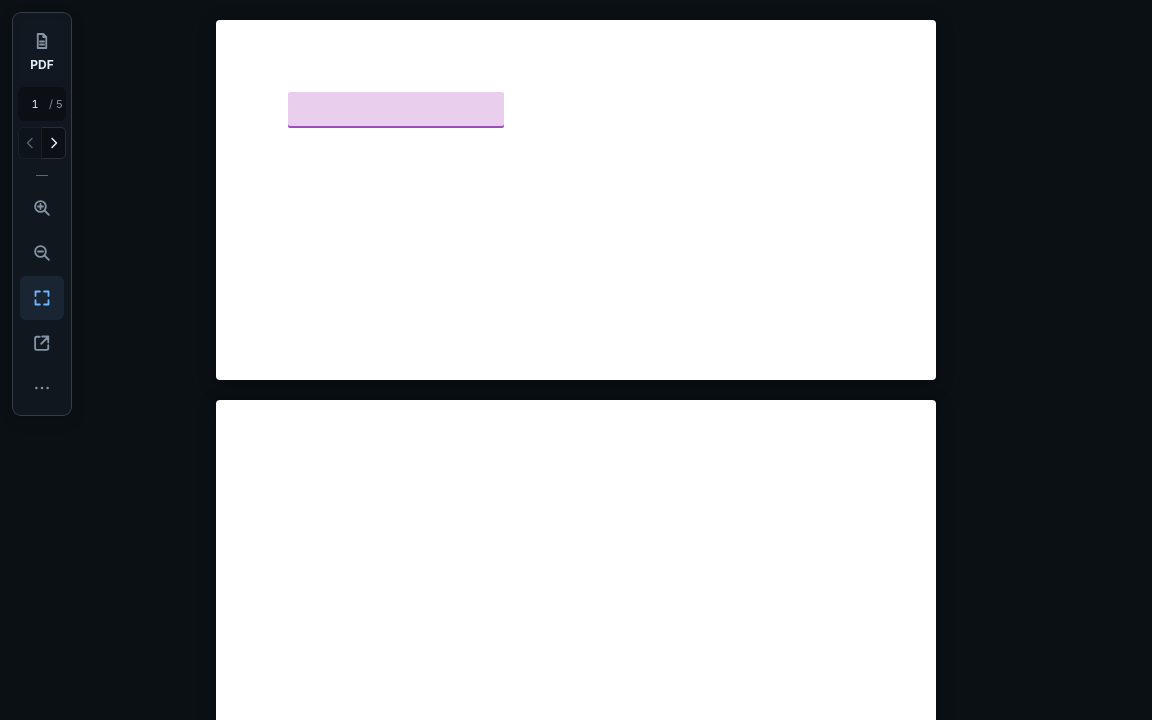
it: PdfReader annotation interactions › shows multiple pages at once and keeps navigation aligned to page groups
Click the button named "更多 PDF 工具": (42, 388) [20,366,64,410]
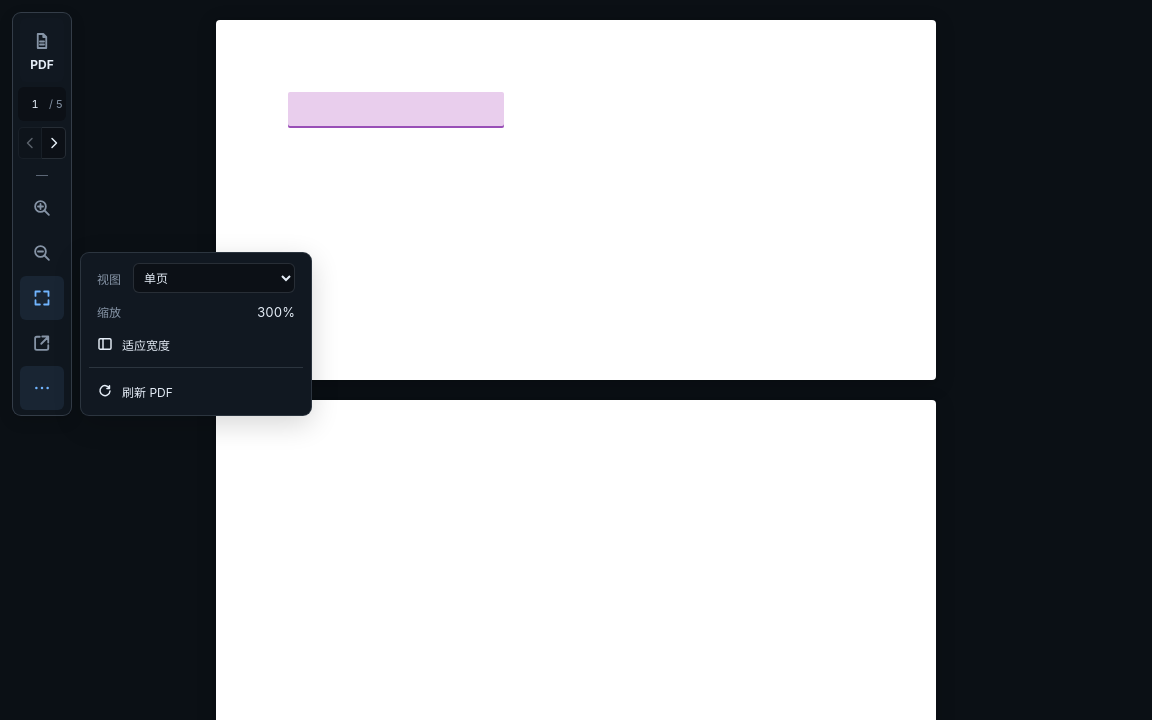
Select "双页并排" in the dropdown named "阅读布局": (214, 278) [133,263,295,293]
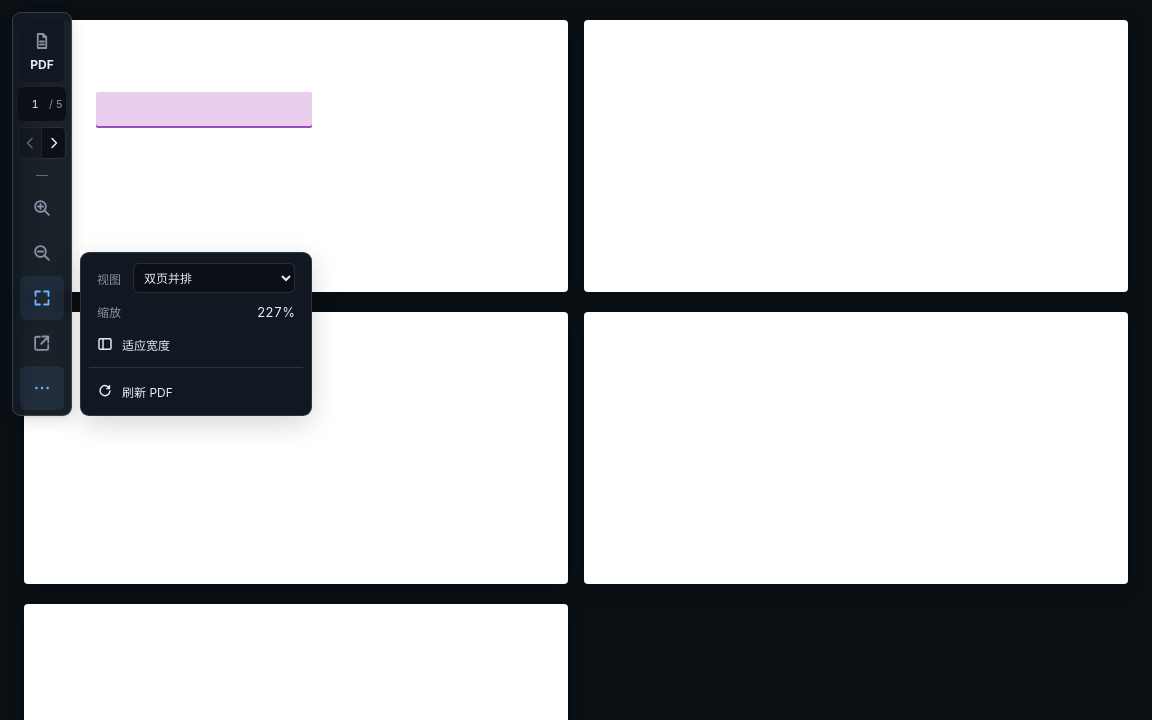
Expected: the element with class "lit-pdf-pages" has class "pages-2"
Click the button named "下一页": (54, 143) [42,127,66,159]
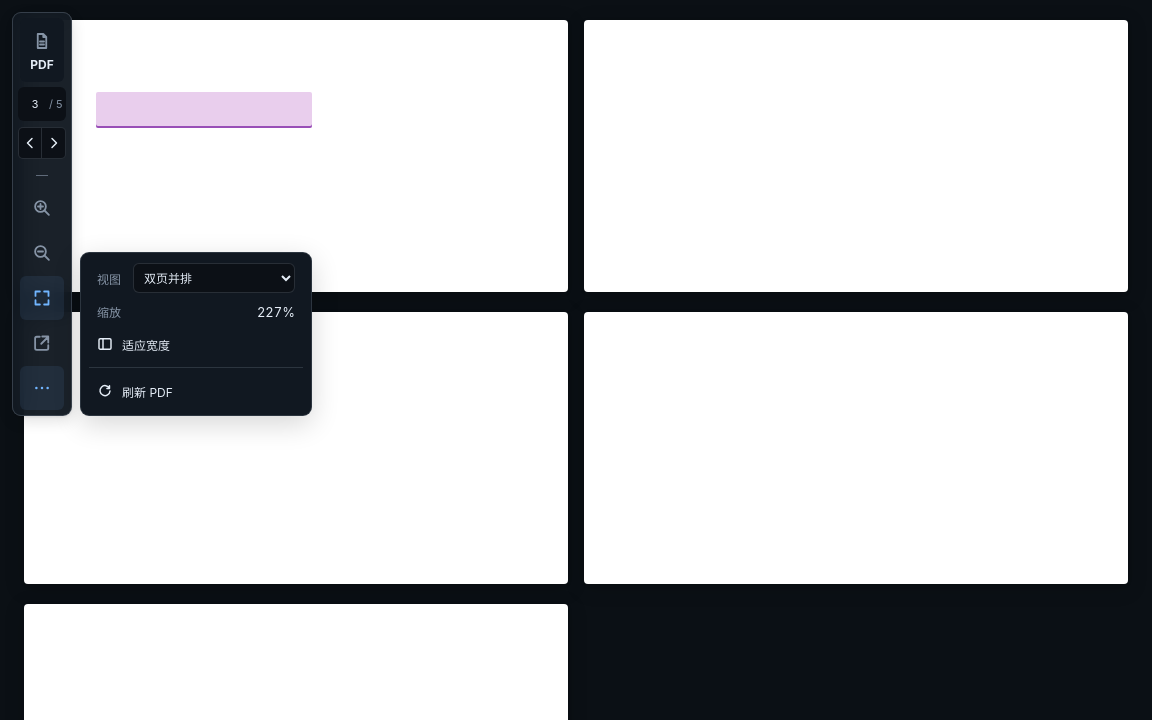
Expected: the number field labelled "/ 5" holds "3", [21,88,49,120]
Select "四页网格" in the dropdown named "阅读布局": (214, 278) [133,263,295,293]
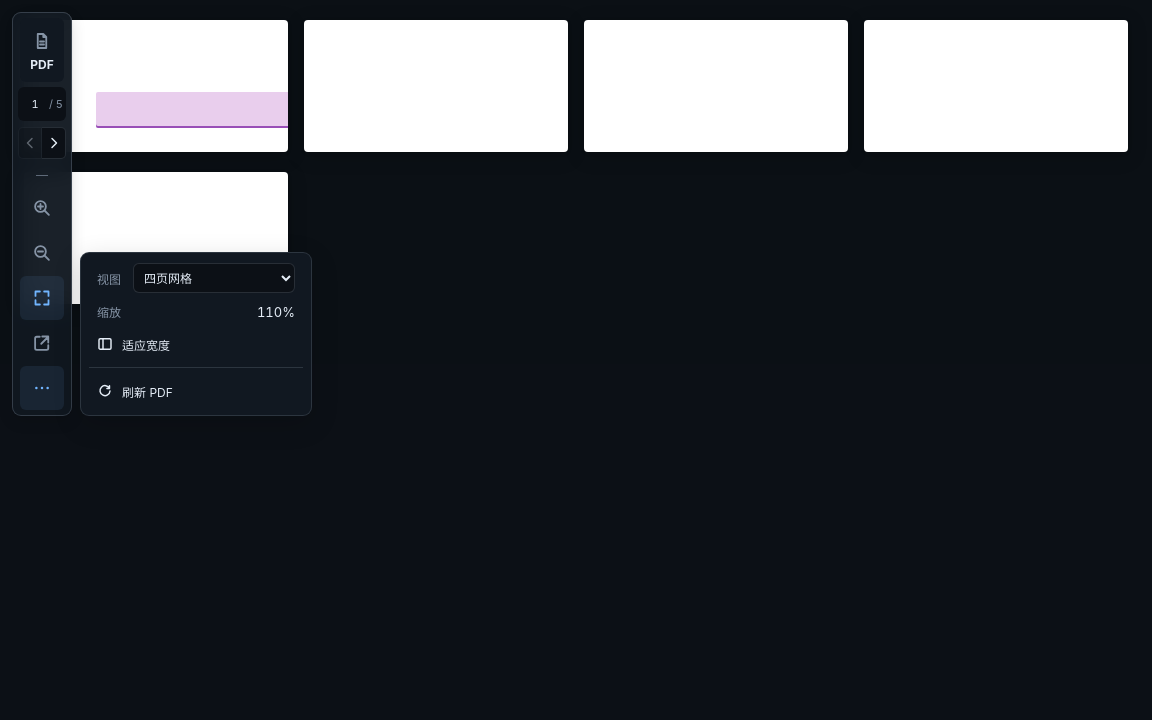
Expected: the number field labelled "/ 5" holds "1", [21,88,49,120]
Click the button named "下一页": (54, 143) [42,127,66,159]
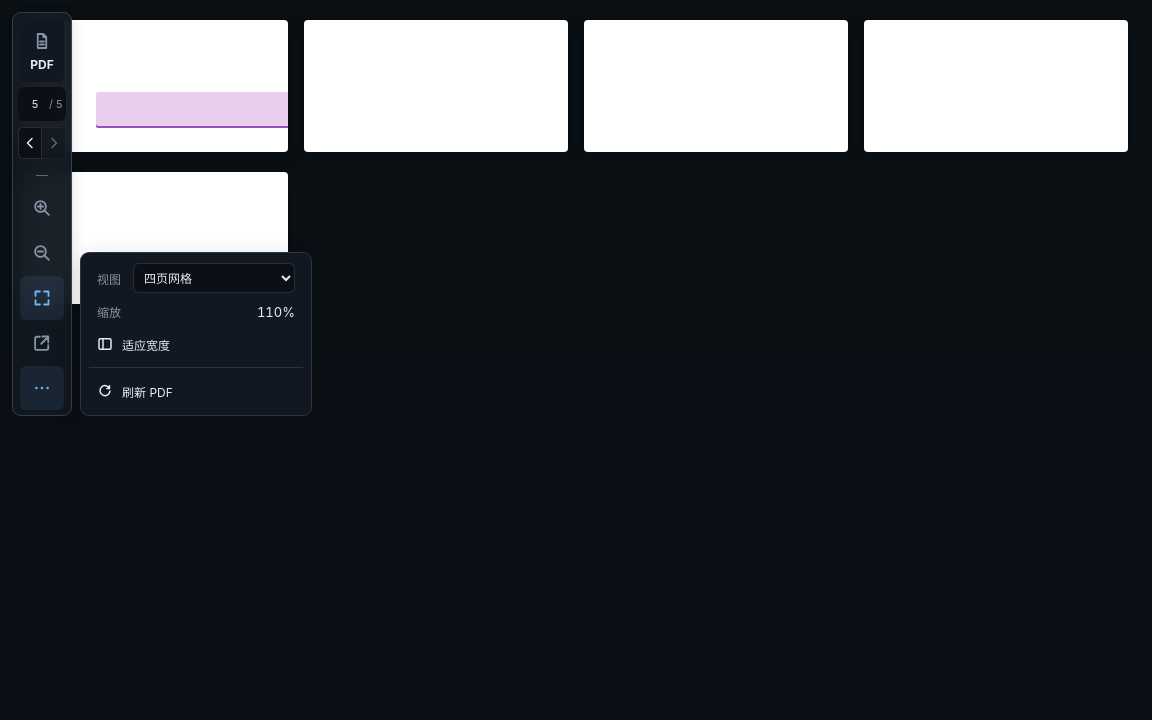
Expected: the number field labelled "/ 5" holds "5", [21,88,49,120]
Expected: the button named "下一页" is disabled, [42,127,66,159]
Click the button named "上一页": (30, 143) [18,127,42,159]
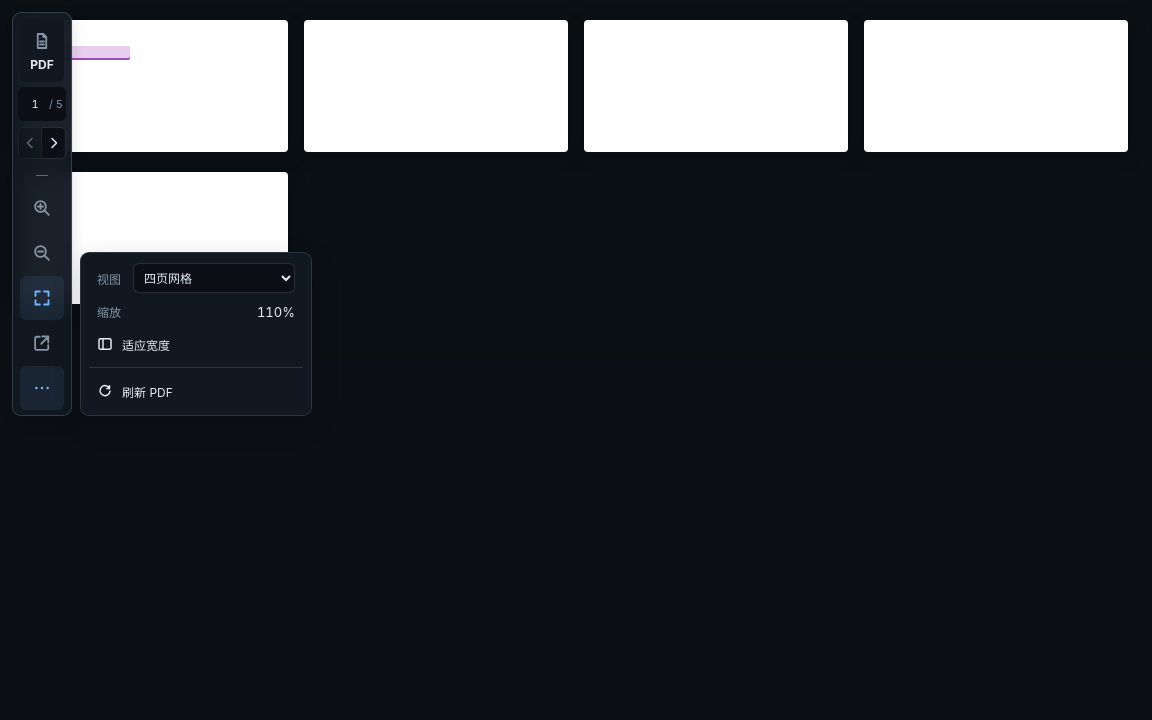
Expected: the number field labelled "/ 5" holds "1", [21,88,49,120]
